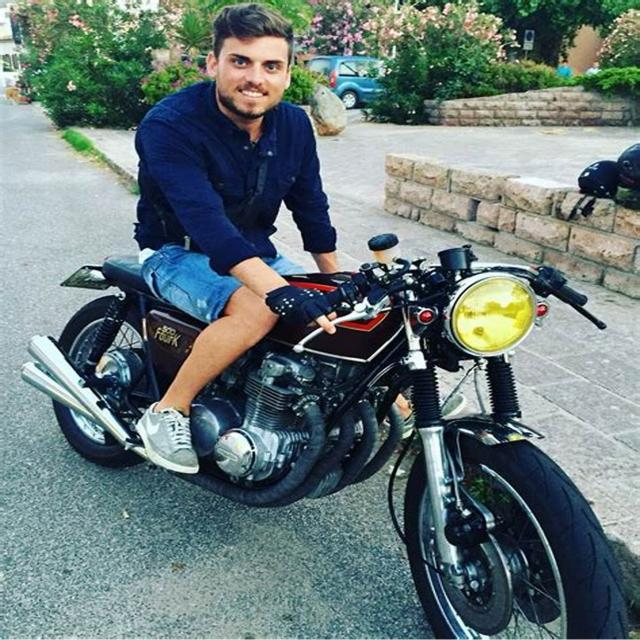No helmet: (194, 4, 313, 126)
